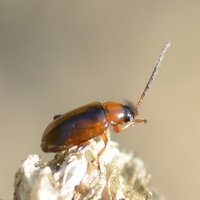insect: (41, 42, 170, 169)
